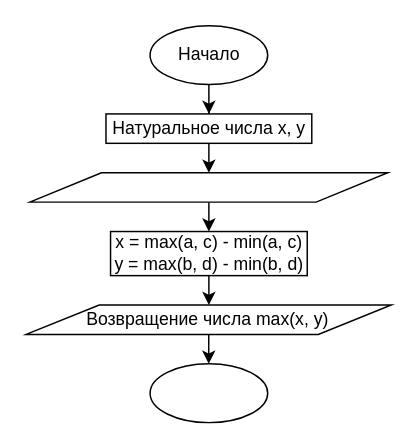
Image size: 417x448. Some labels were removed from this diagram. The shapes that lost their labels are listed below. From the top down, each one's centre as x and y in pixels, then its label:
At point (208, 186): "Передача значений a, b, c, d".
At point (208, 392): "Конец".
